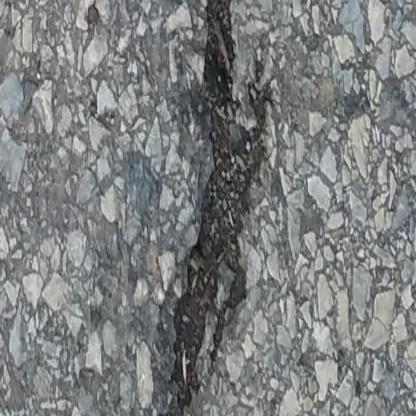Cracks: (170, 0, 273, 416)
